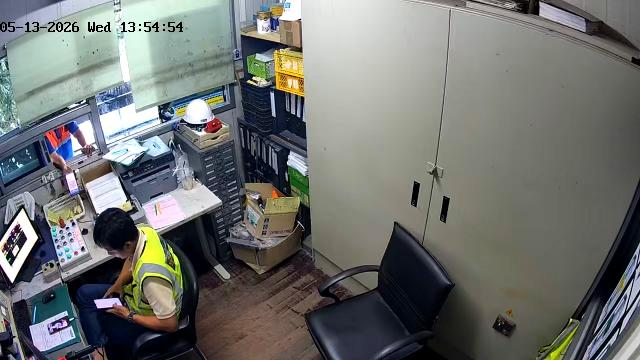Head: (94, 208, 138, 258)
People: (77, 208, 182, 358)
Phone: (48, 316, 70, 333), (65, 172, 79, 195), (94, 298, 121, 308)
